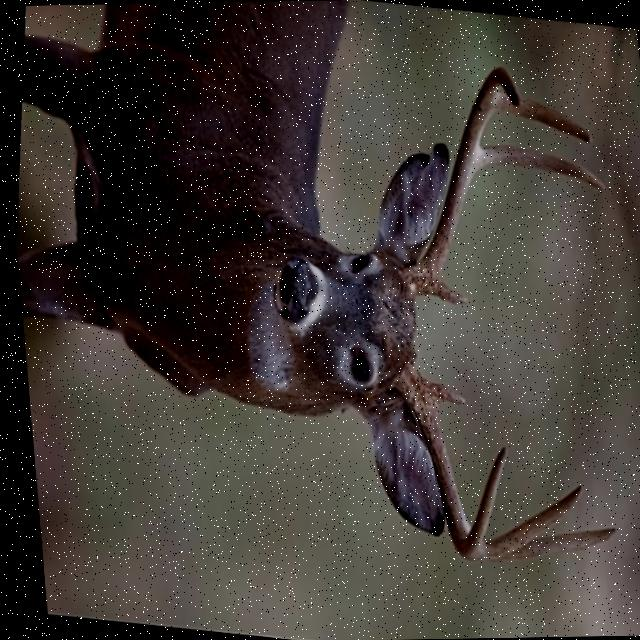L-F: (390, 365, 502, 559)
L-G1: (418, 378, 459, 407)
L-G3: (467, 483, 575, 559)
R-F: (397, 64, 519, 293)
R-G1: (426, 279, 464, 307)
R-G2: (470, 144, 602, 192)
